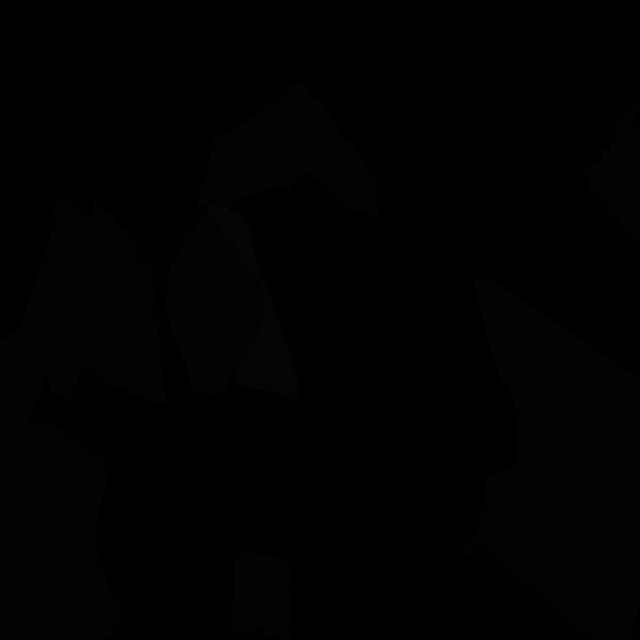cardboard: (0, 199, 168, 640), (473, 278, 640, 640), (197, 79, 380, 218), (583, 103, 640, 245), (231, 551, 294, 640), (458, 533, 476, 573)
metal: (164, 216, 262, 397)
soft_plastic: (207, 204, 298, 400)
